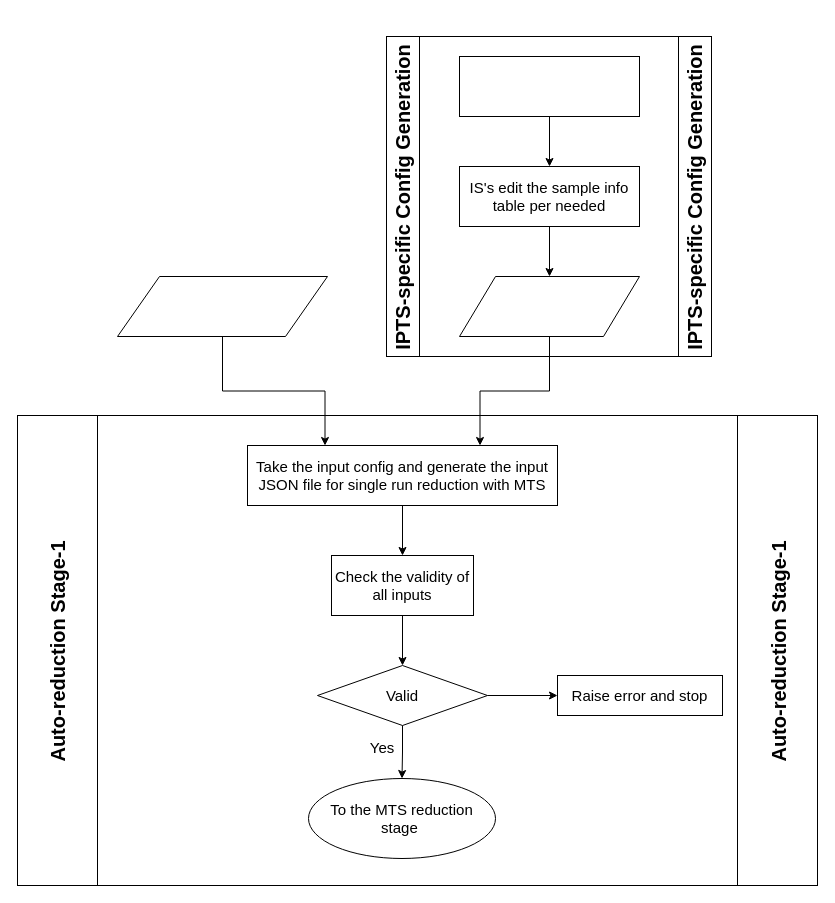
Image size: 835x903. Some labels were removed from this diagram. Here are the shapes that lost their labels. From the top down, the centre of each, then its label:
At point (549, 86): "Sample info from ITEMS".
At point (222, 306): "Central Config Table".
At point (549, 306): "IPTS-specific Config Table".
